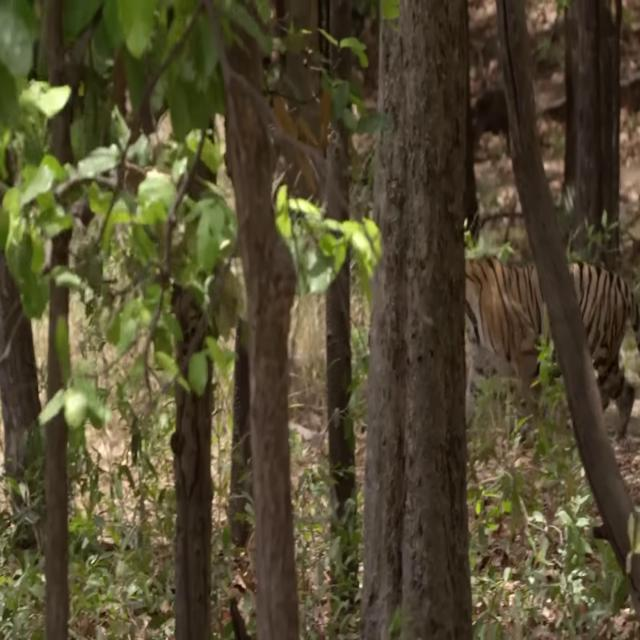tiger: (465, 251, 640, 447)
